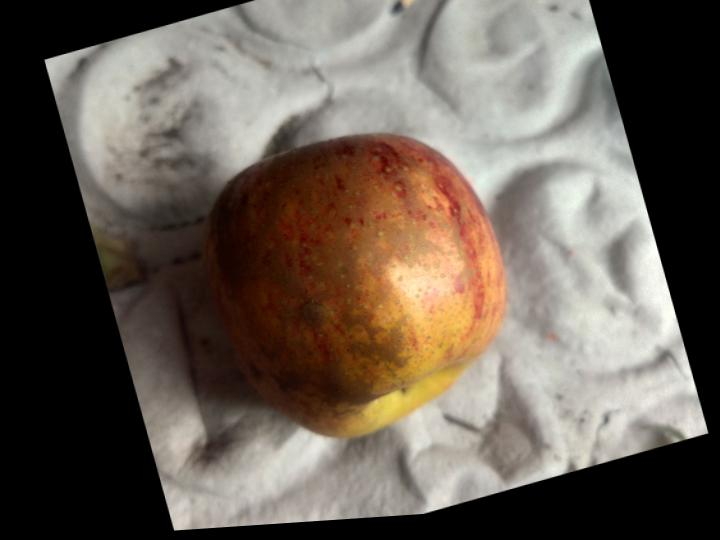apple: (205, 134, 504, 437)
bruise_discoloration: (213, 133, 483, 419)
